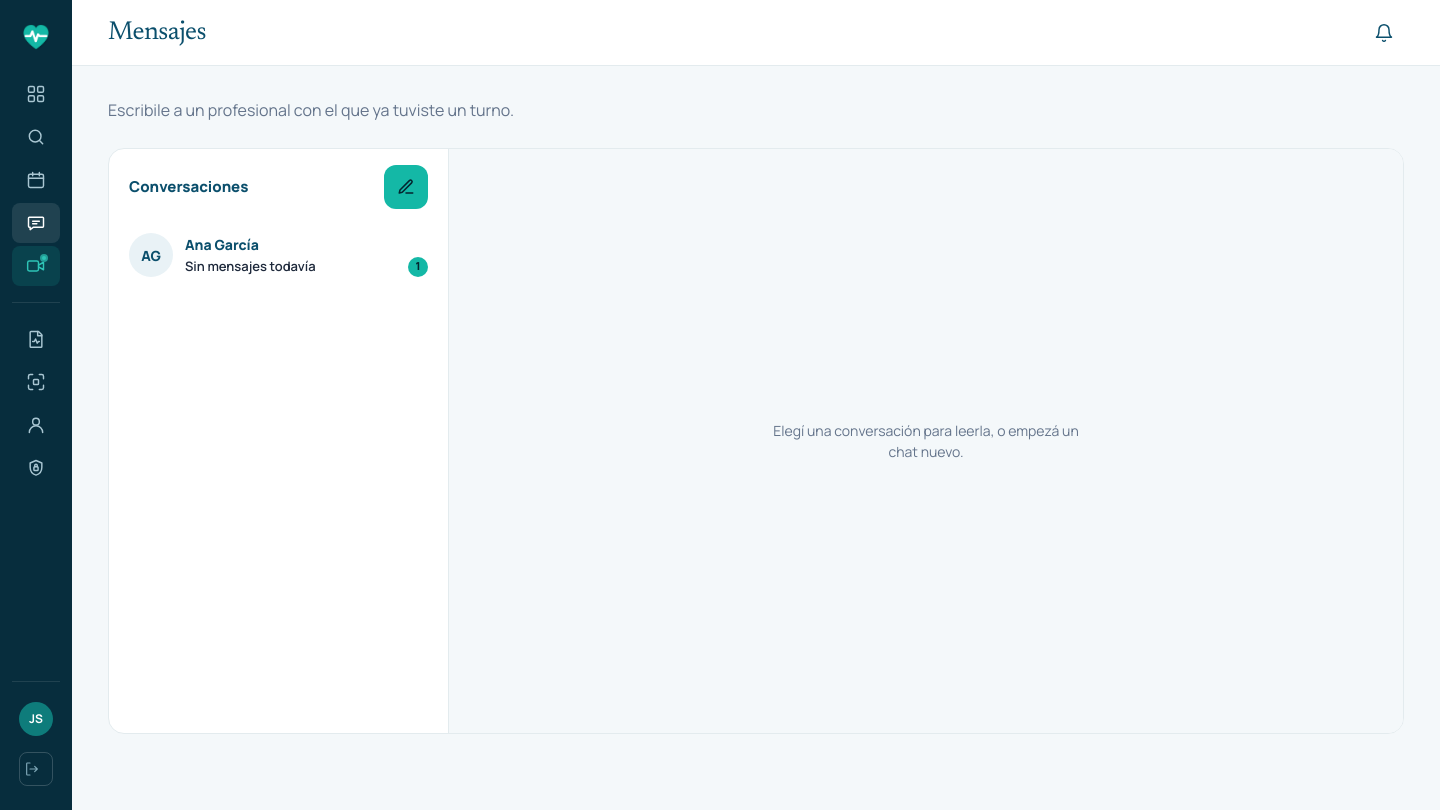
Test: MessagesPage (ENG-70) › elegir a alguien nuevo no crea nada hasta el primer mensaje
Click the button named "Nuevo chat". click: (406, 187)
box: [384,165,428,209]
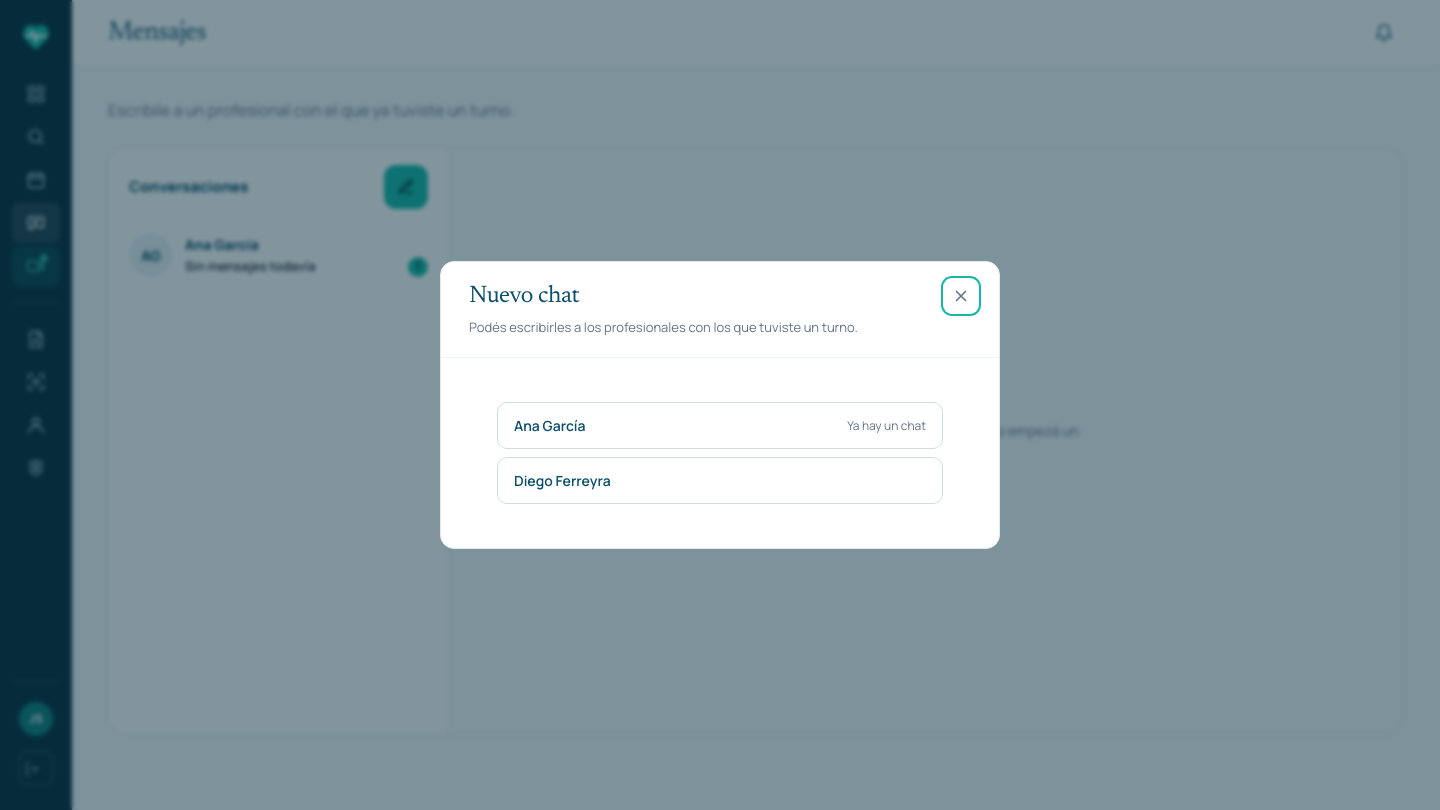
Click the button "Diego Ferreyra". click: (562, 481)
box: [497,457,943,504]
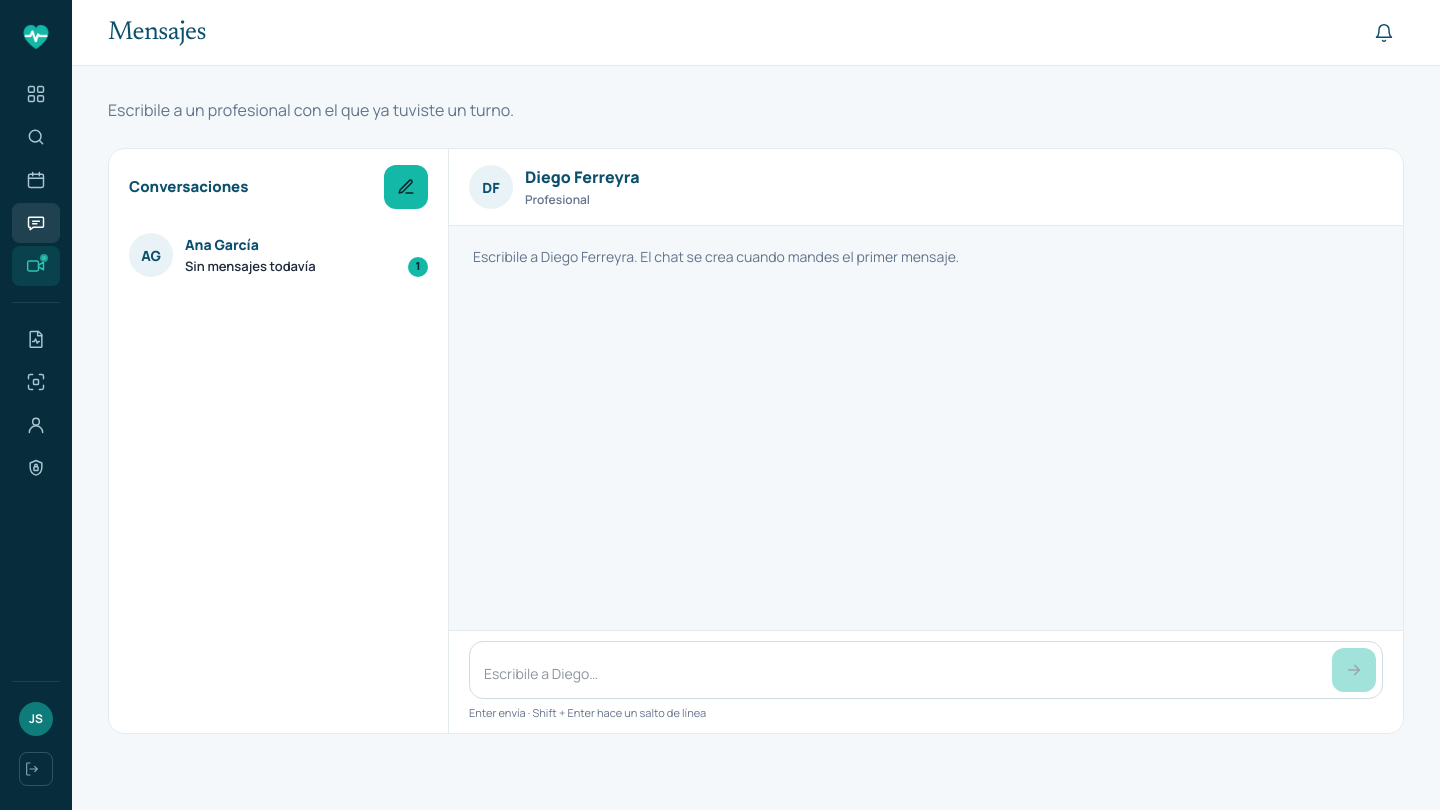
Expected: the text "El chat se crea cuando mandes el primer mensaje" is shown, [634,247,959,266]
Type "primero" into the text box named "Mensaje para Diego Ferreyra". click: (904, 674)
box: [484,656,1324,692]
Then press Enter
(page scrolled)
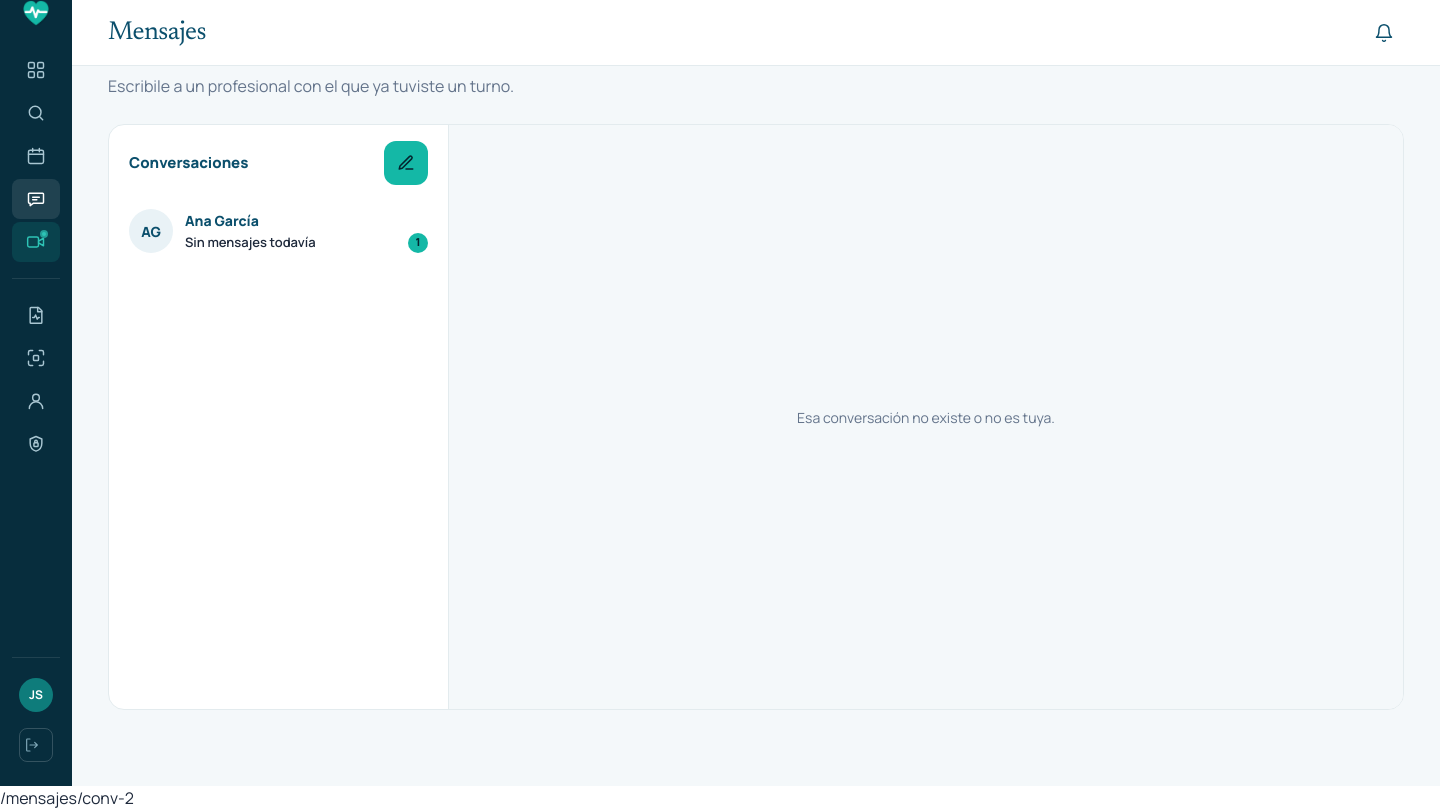
Expected: the text named "ruta" reads "/mensajes/conv-2", [0,787,134,809]
